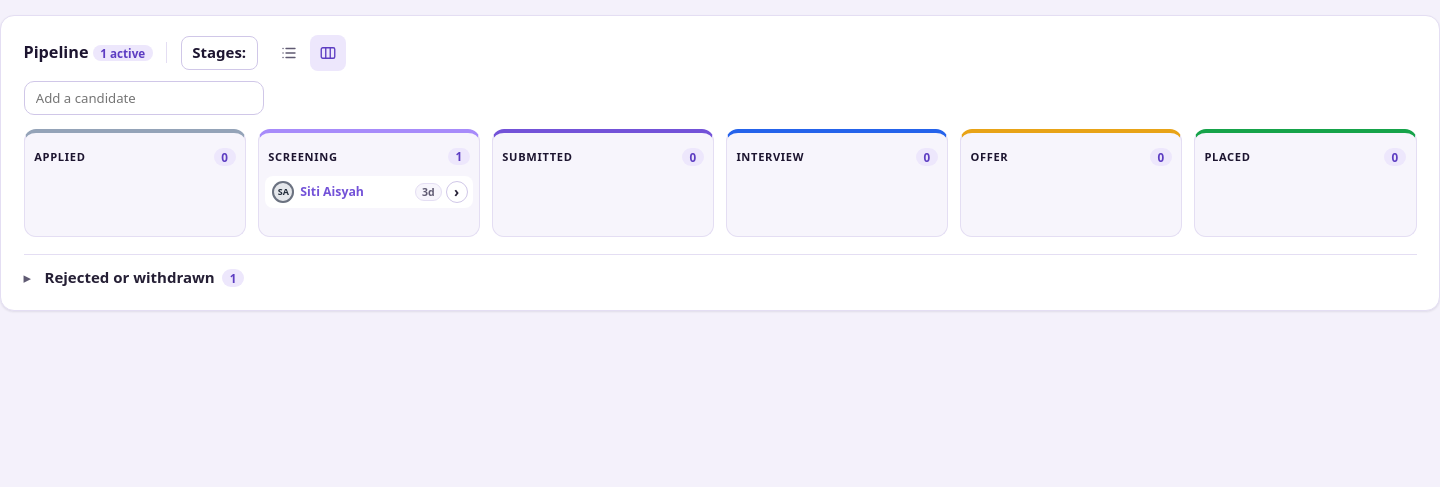
Test: pipeline board › says when someone else moved the card first
Expected: the link "Siti Aisyah" is shown, [300,183,364,200]
Click the element "Siti Aisyah": (369, 192) [265,176,473,208]
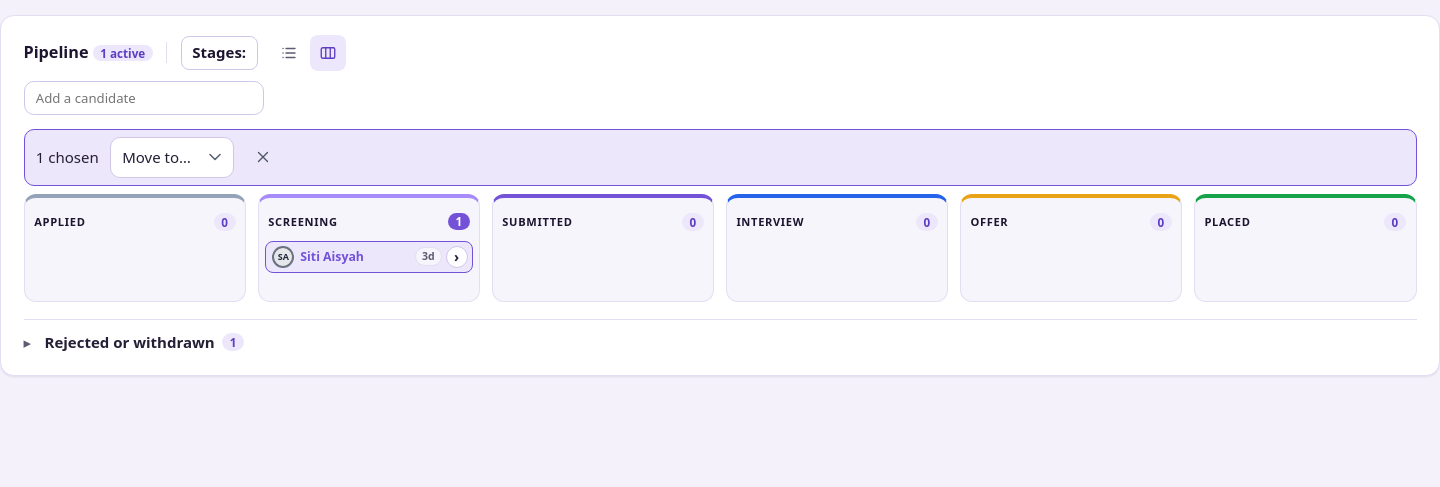
Select "Offer" in the dropdown named "Move the chosen candidates": (172, 157) [110,137,234,178]
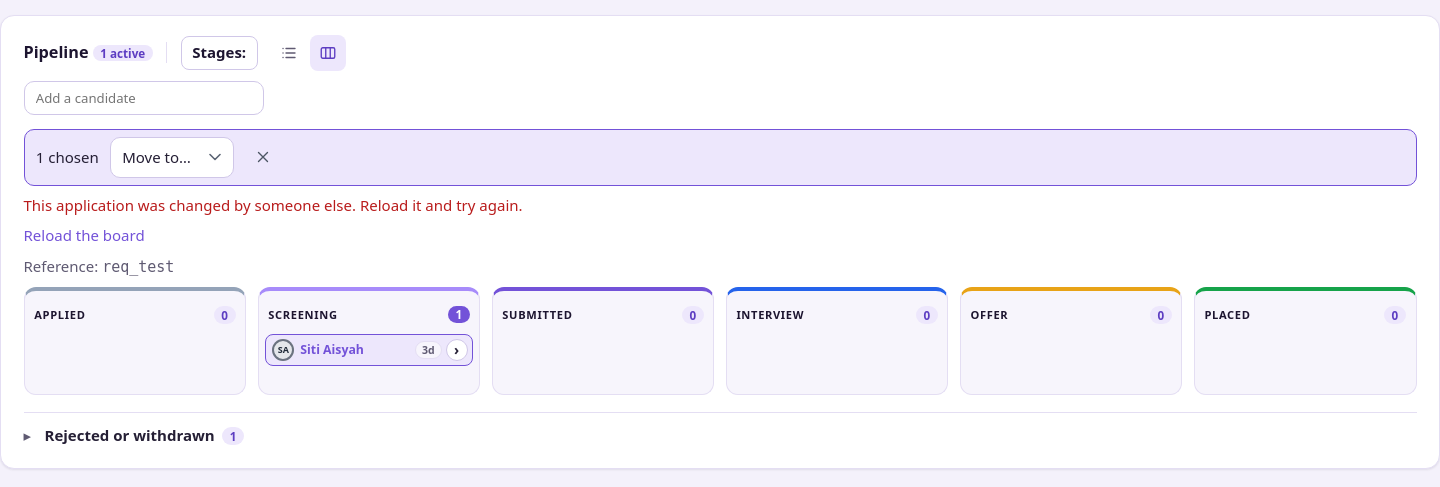
Expected: the button "Reload the board" is shown, [24,224,145,248]
